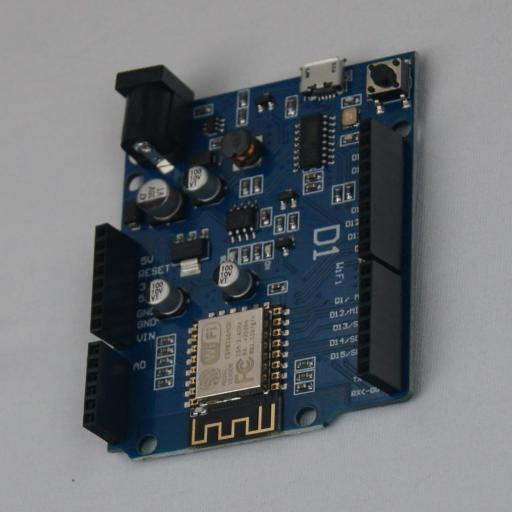Arduino Uno WiFi Shield: (82, 51, 426, 461)
